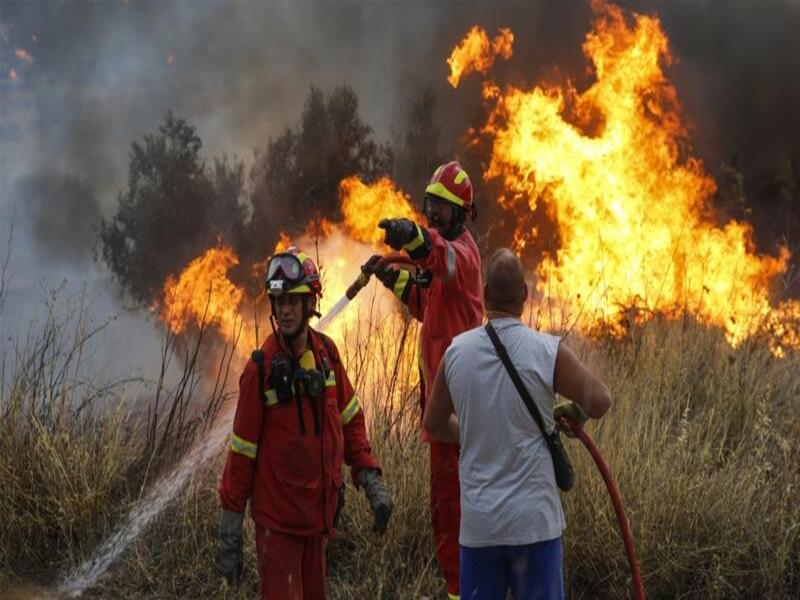fire: (458, 14, 767, 324)
